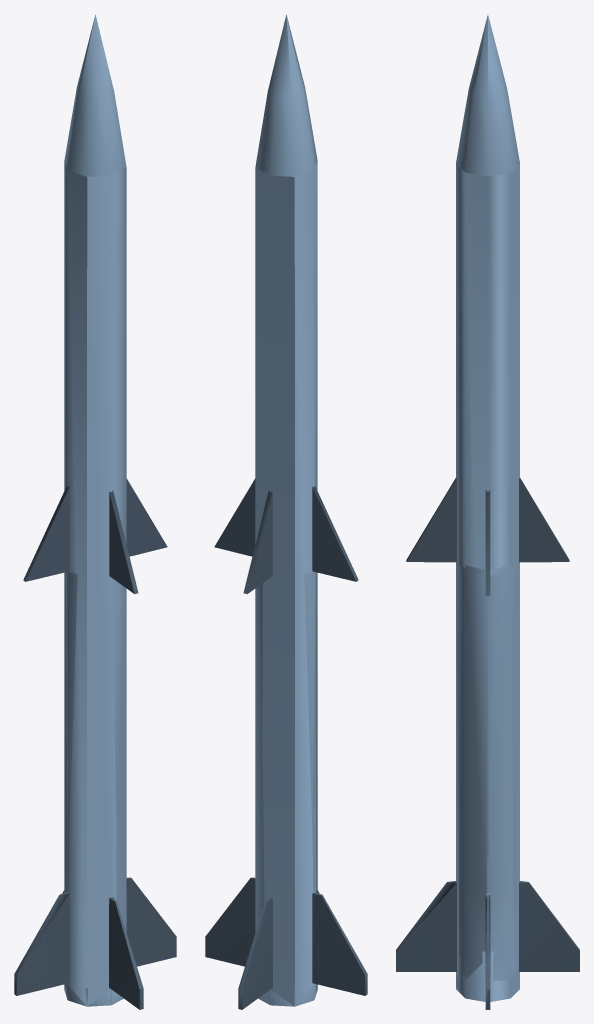
Rendered from aim120.glb.
The picture shows the model from 3 angles, left to right: view 1: azimuth 30°, elevation 25°; view 2: azimuth 150°, elevation 25°; view 3: azimuth 270°, elevation 25°; orthographic projection.
Parts seen in each view (by area): view 1: db_amraam_newLOD_LOD child0_body2_p13829_Geometry_0.001, db_amraam_newLOD_LOD child0_fins_p13680_Geometry_0.001, db_amraam_newLOD_LOD child0_body_pl1_Geometry_0.001, db_amraam_newLOD_LOD child0_warhead_p13640_Geometry_0.001, db_amraam_newLOD_LOD child0_wings_p13656_Geometry_0.001; view 2: db_amraam_newLOD_LOD child0_body2_p13829_Geometry_0.001, db_amraam_newLOD_LOD child0_fins_p13680_Geometry_0.001, db_amraam_newLOD_LOD child0_warhead_p13640_Geometry_0.001, db_amraam_newLOD_LOD child0_wings_p13656_Geometry_0.001, db_amraam_newLOD_LOD child0_body_pl1_Geometry_0.001; view 3: db_amraam_newLOD_LOD child0_body2_p13829_Geometry_0.001, db_amraam_newLOD_LOD child0_body_pl1_Geometry_0.001, db_amraam_newLOD_LOD child0_fins_p13680_Geometry_0.001, db_amraam_newLOD_LOD child0_warhead_p13640_Geometry_0.001, db_amraam_newLOD_LOD child0_wings_p13656_Geometry_0.001.
Boxes of the visible parts, x1,y1,x2,y2 form: db_amraam_newLOD_LOD child0_body2_p13829_Geometry_0.001: [64, 161, 126, 1006]; db_amraam_newLOD_LOD child0_fins_p13680_Geometry_0.001: [14, 877, 176, 1009]; db_amraam_newLOD_LOD child0_body_pl1_Geometry_0.001: [64, 568, 126, 1006]; db_amraam_newLOD_LOD child0_warhead_p13640_Geometry_0.001: [64, 14, 126, 176]; db_amraam_newLOD_LOD child0_wings_p13656_Geometry_0.001: [23, 478, 167, 594]; db_amraam_newLOD_LOD child0_body2_p13829_Geometry_0.001: [255, 161, 317, 1006]; db_amraam_newLOD_LOD child0_fins_p13680_Geometry_0.001: [205, 877, 367, 1009]; db_amraam_newLOD_LOD child0_warhead_p13640_Geometry_0.001: [255, 14, 317, 176]; db_amraam_newLOD_LOD child0_wings_p13656_Geometry_0.001: [214, 478, 358, 594]; db_amraam_newLOD_LOD child0_body_pl1_Geometry_0.001: [255, 568, 317, 1006]; db_amraam_newLOD_LOD child0_body2_p13829_Geometry_0.001: [456, 163, 519, 1001]; db_amraam_newLOD_LOD child0_body_pl1_Geometry_0.001: [456, 563, 519, 1001]; db_amraam_newLOD_LOD child0_fins_p13680_Geometry_0.001: [396, 881, 579, 1009]; db_amraam_newLOD_LOD child0_warhead_p13640_Geometry_0.001: [456, 15, 519, 176]; db_amraam_newLOD_LOD child0_wings_p13656_Geometry_0.001: [406, 478, 569, 595].
Size of the model in its own units: 0.6149 by 3.6 by 0.6149.
